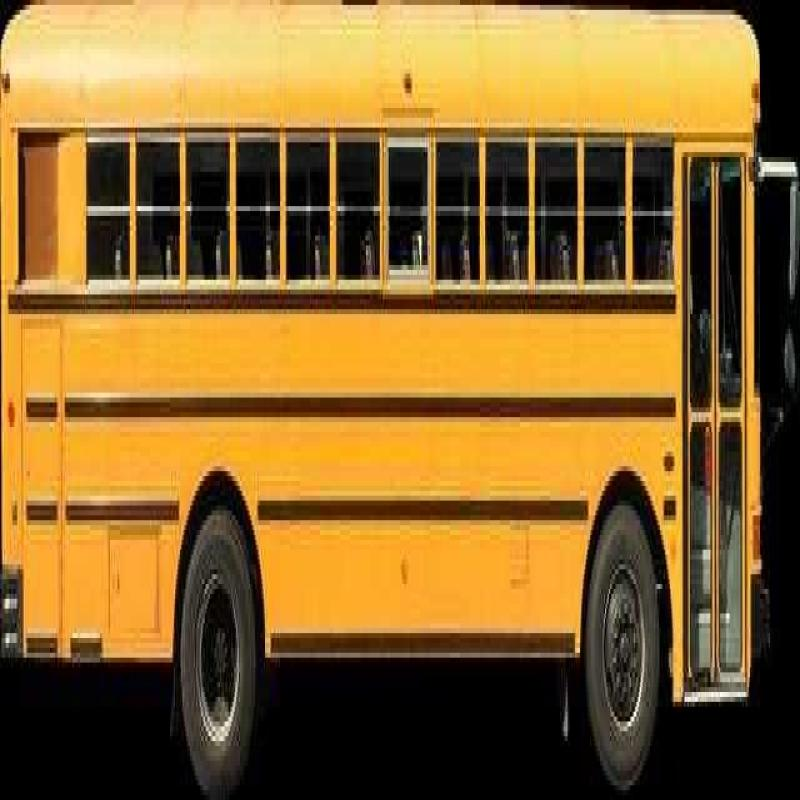bus: (1, 0, 795, 800)
